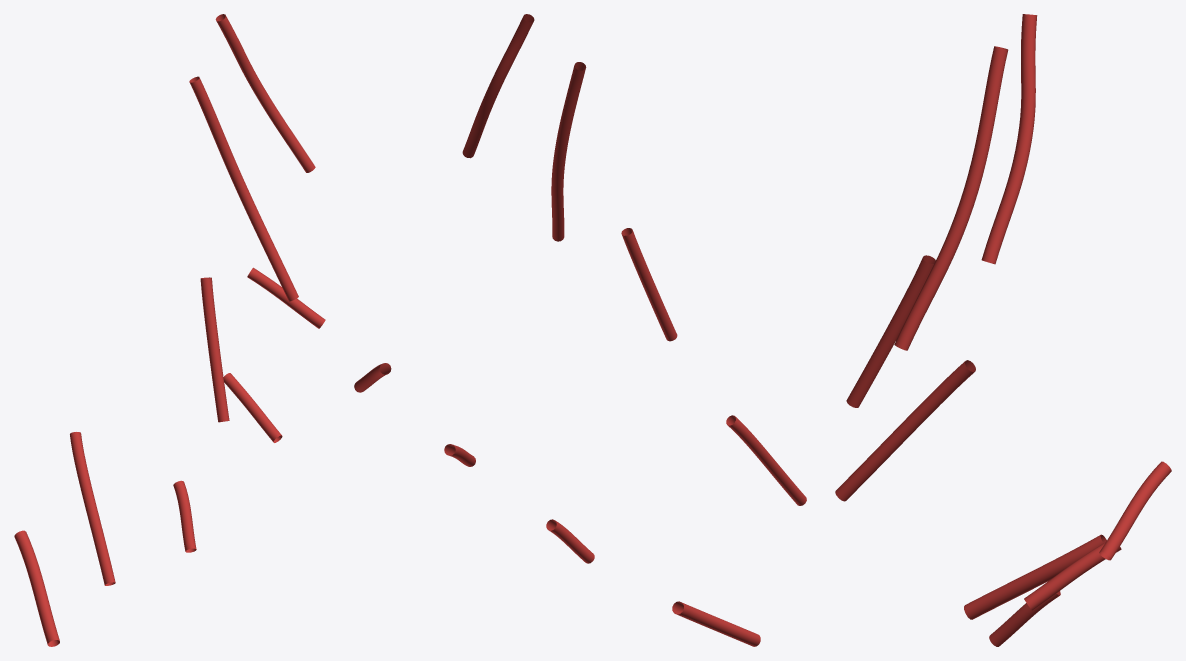
3 renders of one model, left to right at view 1: azimuth 30°, elevation 25°; view 2: azimuth 150°, elevation 25°; view 3: azimuth 270°, elevation 25°, orthographic. The views are drawn at different scales.
Parts seen in each view (by area): view 1: 左侧跖足底动脉穿支; view 2: 左侧跖足底动脉穿支; view 3: 左侧跖足底动脉穿支.
Boxes of the visible parts, x1,y1,x2,y2 form: 左侧跖足底动脉穿支: (14,14,325,646); 左侧跖足底动脉穿支: (354,14,806,646); 左侧跖足底动脉穿支: (835,14,1171,646).
Size of the model in its own units: 0.0591 by 0.0969 by 0.0407.
